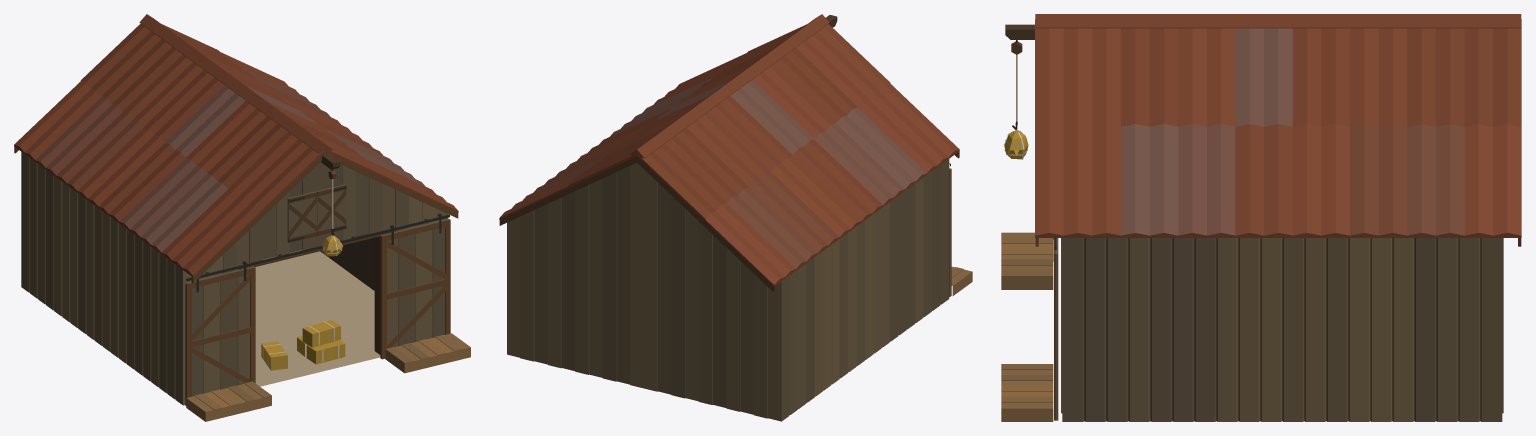
File: livery-stable-c01ee0.glb
3 views of the same model, side by side, from view 1: azimuth 30°, elevation 25°; view 2: azimuth 150°, elevation 25°; view 3: azimuth 270°, elevation 25° (orthographic). The views are drawn at different scales.
Visible parts, largest first — view 1: livery-stable-mesh, door-r-mesh, door-l-mesh, hay-bales-mesh, loft-door-l-mesh, loft-door-r-mesh; view 2: livery-stable-mesh; view 3: livery-stable-mesh, door-r-mesh, hay-net-mesh.
Part boxes in pixels (box(x1,y1,x2,y2)): livery-stable-mesh: box(14, 14, 470, 421); door-r-mesh: box(380, 213, 450, 359); door-l-mesh: box(185, 261, 255, 405); hay-bales-mesh: box(261, 320, 345, 370); loft-door-l-mesh: box(287, 191, 317, 242); loft-door-r-mesh: box(317, 184, 346, 235); livery-stable-mesh: box(499, 14, 972, 421); livery-stable-mesh: box(1001, 14, 1521, 421); door-r-mesh: box(1053, 238, 1058, 420); hay-net-mesh: box(1004, 129, 1028, 159).
Size of the model in its own units: 8 by 6.78 by 10.
